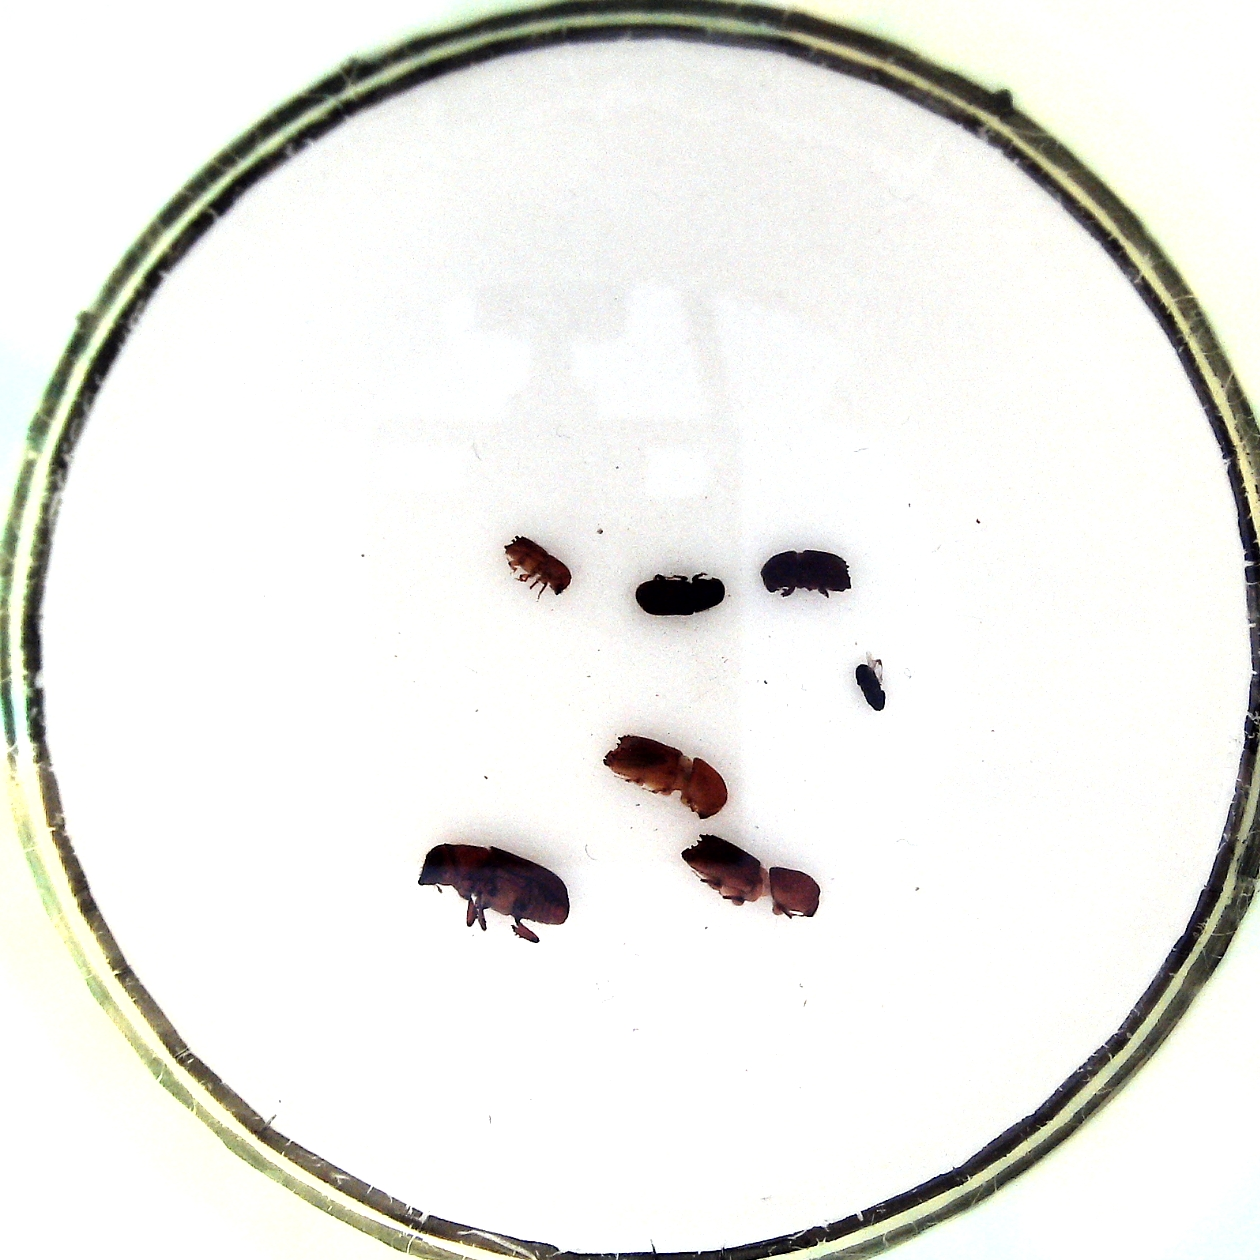Boerner: (678, 827, 826, 923), (595, 732, 732, 823)
Leconte: (412, 834, 573, 942)
Linnaeus: (757, 547, 857, 600)
acuminatus: (503, 532, 573, 600)
armandi: (635, 570, 732, 618)
coleoptera: (854, 652, 890, 714)
